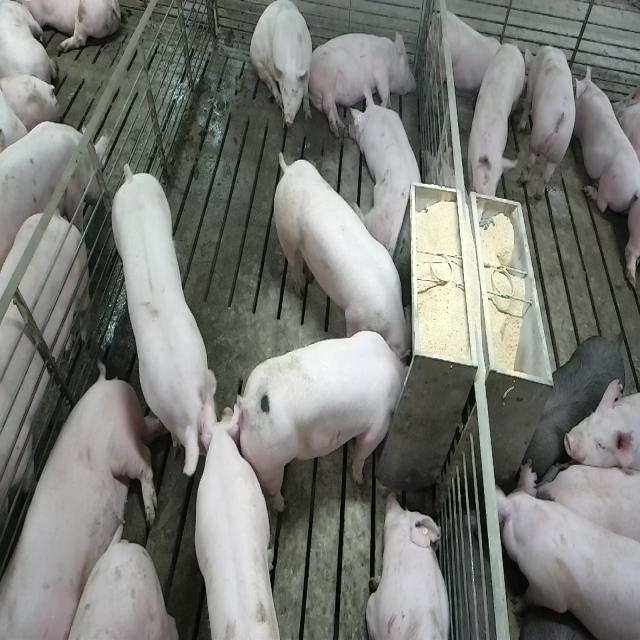Feeding: (242, 330, 420, 514), (269, 144, 411, 359)
Lateral_lying: (307, 28, 417, 141)
Sitting: (251, 1, 313, 135)
Standing: (0, 201, 92, 640), (109, 155, 221, 478), (494, 458, 637, 640), (185, 397, 281, 640), (0, 116, 108, 270), (529, 333, 629, 465), (464, 42, 528, 214), (539, 458, 640, 556), (526, 40, 580, 202)
Sternal_lying: (351, 86, 428, 259), (366, 490, 453, 640), (574, 62, 638, 214), (426, 5, 512, 99)
